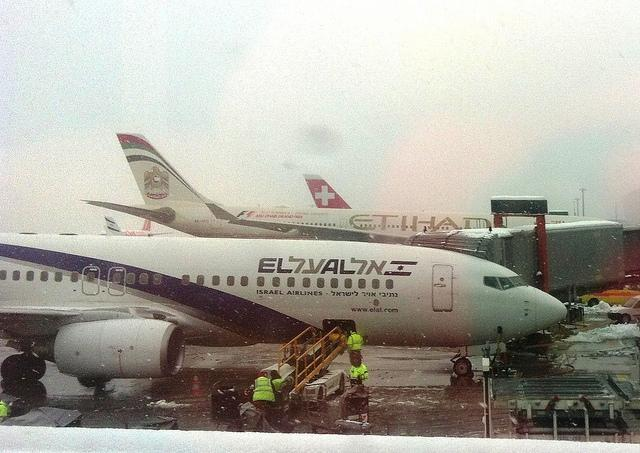car: (606, 295, 639, 324)
truck: (608, 295, 640, 323)
